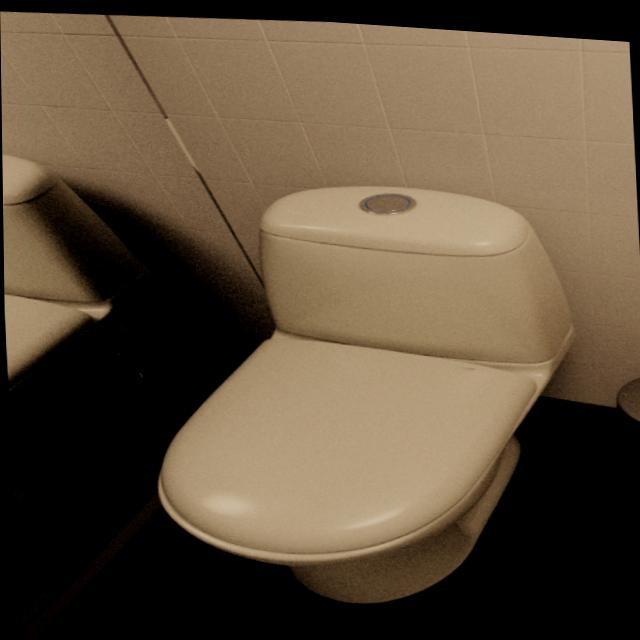toilet: (140, 160, 589, 617)
